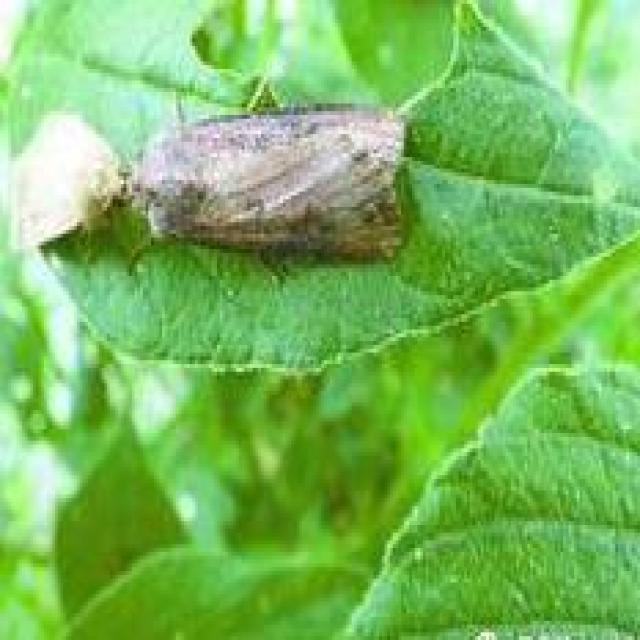BeetArmyWorm-Adult-: (117, 88, 435, 300)
